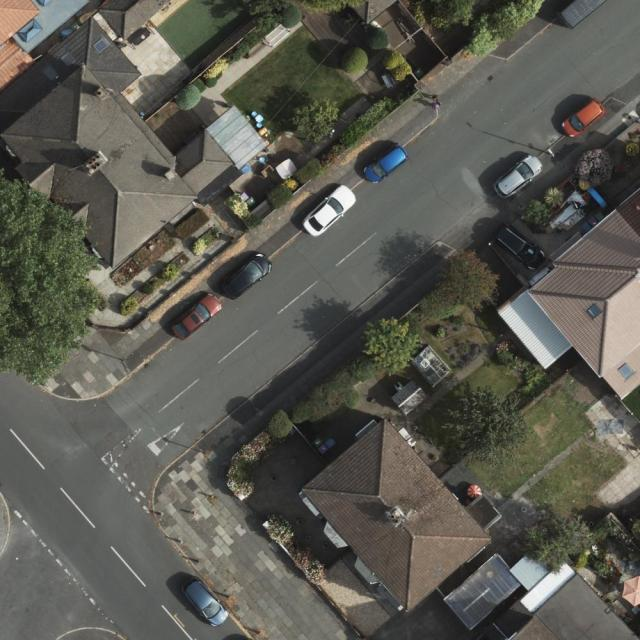roof: (0, 0, 267, 271), (302, 419, 505, 611), (499, 185, 640, 400), (442, 550, 640, 640), (347, 0, 400, 25)
skylight: (204, 104, 270, 171), (15, 16, 43, 44), (92, 37, 115, 56), (42, 65, 61, 84), (619, 360, 636, 381), (584, 302, 603, 320), (57, 50, 76, 67)
